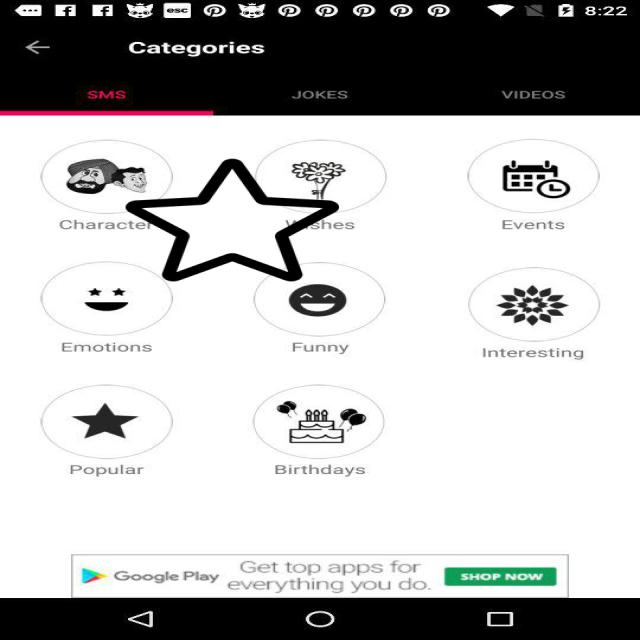forced continuity: (126, 156, 339, 284)
